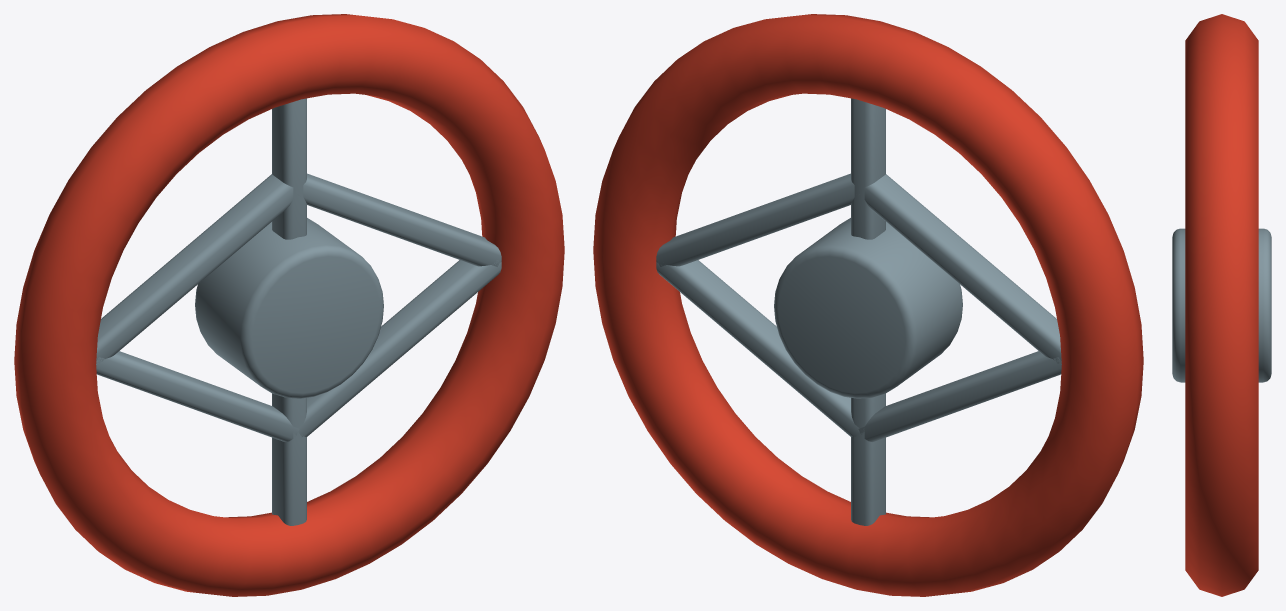
Rendered from pressure_wheel.glb.
The picture shows the model from 3 angles, left to right: view 1: azimuth 30°, elevation 25°; view 2: azimuth 150°, elevation 25°; view 3: azimuth 270°, elevation 25°; orthographic projection. The views are drawn at different scales.
Parts seen in each view (by area): view 1: Hand wheel, Wheel spoke; view 2: Hand wheel, Wheel spoke; view 3: Hand wheel, Wheel spoke.
Boxes of the visible parts, box(x1,y1,x2,y2) form: Hand wheel: box(14, 14, 564, 596); Wheel spoke: box(96, 98, 501, 525); Hand wheel: box(593, 14, 1143, 596); Wheel spoke: box(656, 98, 1061, 525); Hand wheel: box(1185, 14, 1258, 596); Wheel spoke: box(1172, 228, 1271, 382).
Size of the model in its own units: 1.06 by 1.06 by 0.18.
